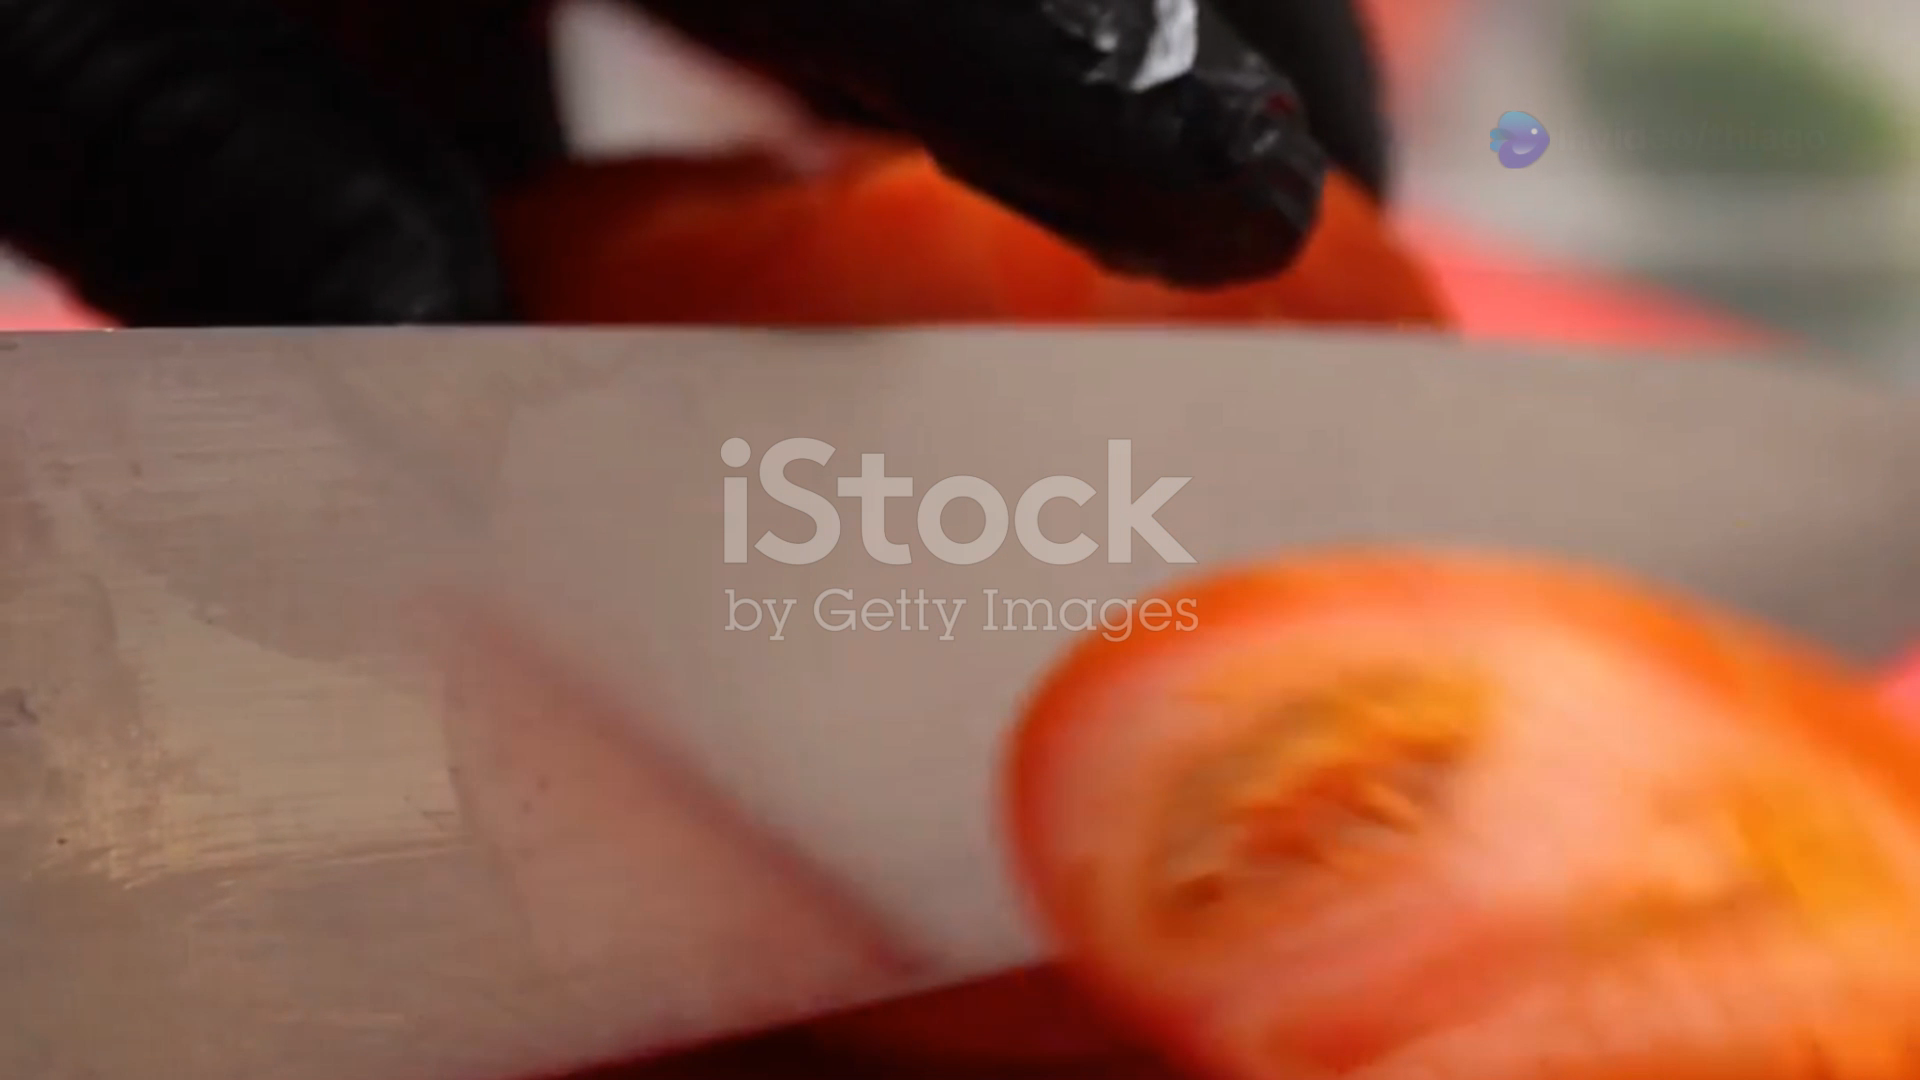cortante: (4, 330, 1920, 1077)
